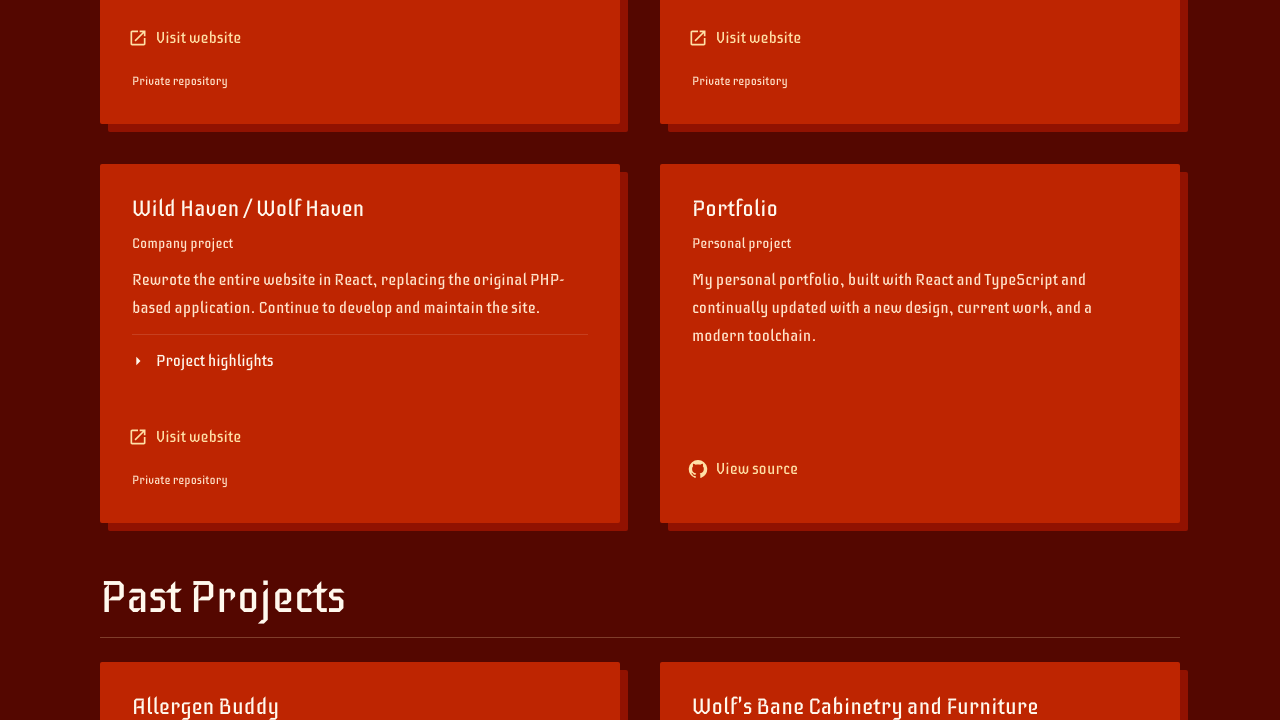
Test case: portfolio › shows Wild Haven highlights in a floating panel on /
(page scrolled)
Expected: the text "Built artist tools, custom character previews" is not shown
Click the button "Project highlights". click: (215, 361)
box: [132, 334, 588, 387]
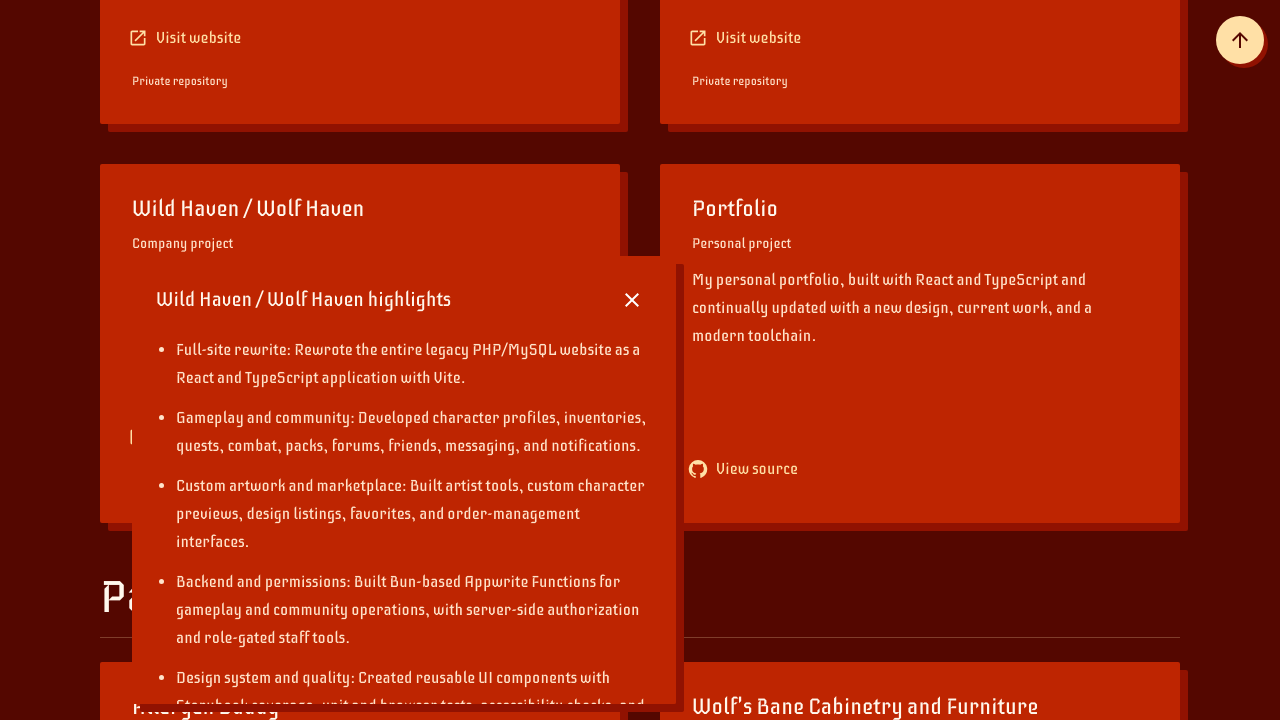
Now the button "Project highlights" is expanded, box [132, 334, 588, 387]
Now the heading "Wild Haven / Wolf Haven highlights" is shown, box [156, 284, 451, 316]
Now the list item "Rewrote the entire legacy PHP/MySQL website" is shown, box [176, 340, 640, 388]
Click the button named "Close project highlights". click: (632, 300)
box: [612, 280, 652, 320]
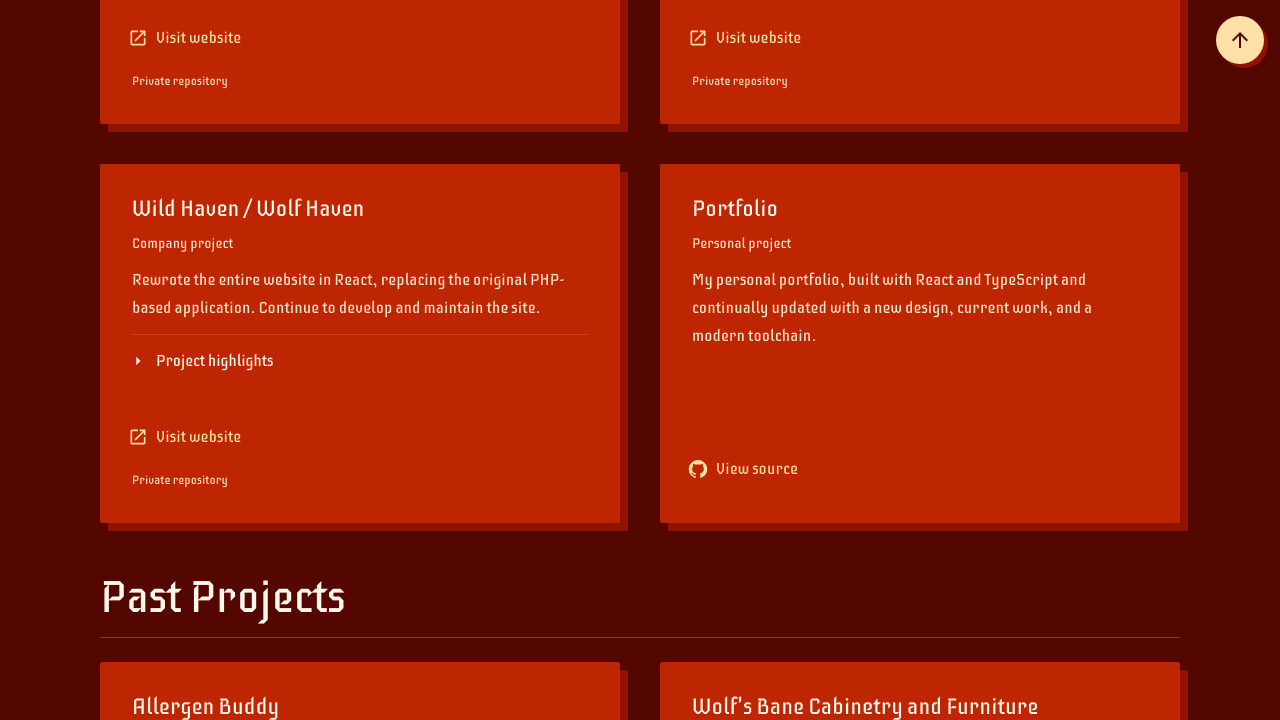
Expected: the text "Rewrote the entire website in React" is shown, [132, 270, 565, 318]
Now the heading "Wild Haven / Wolf Haven highlights" is gone
